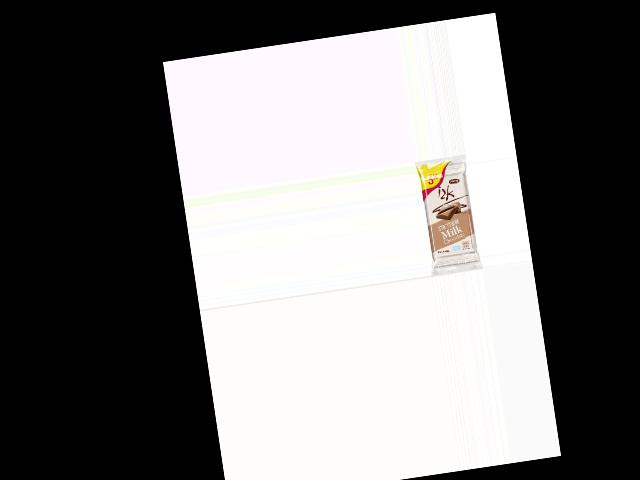chocolate: (415, 154, 482, 265)
